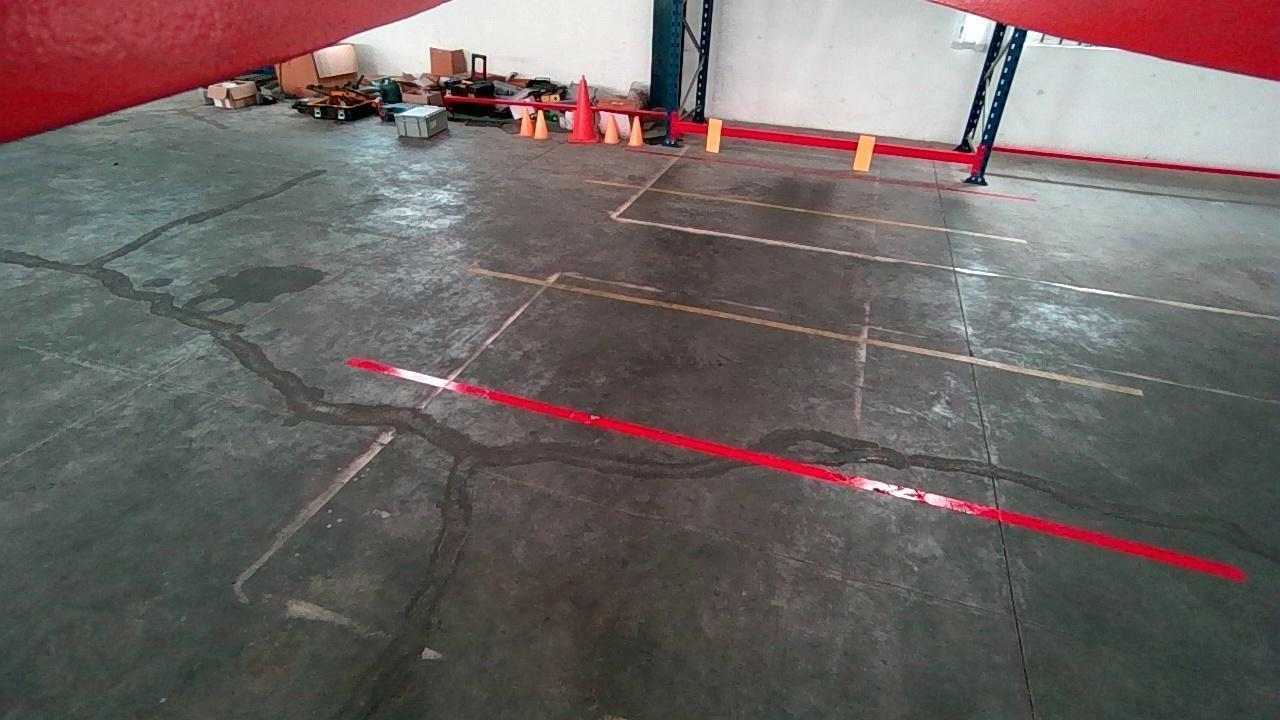red_line: (345, 356, 1244, 581), (626, 147, 1038, 203)
yellow_line: (469, 265, 1144, 397), (588, 177, 1028, 243)
